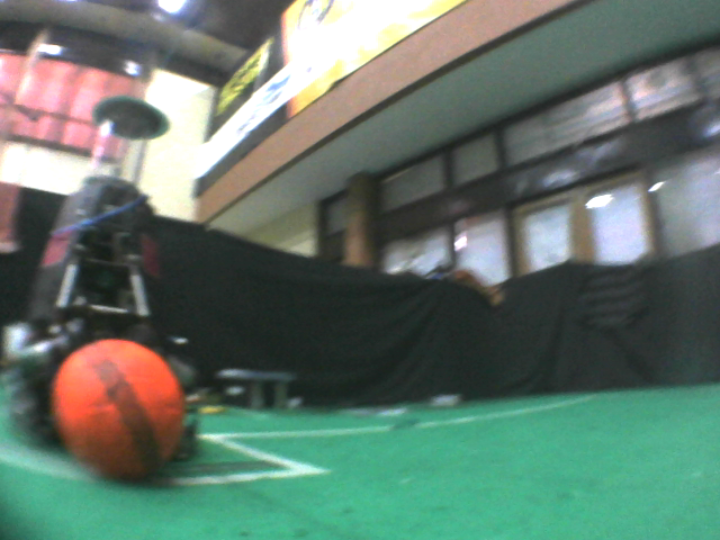bola: (45, 332, 191, 491)
